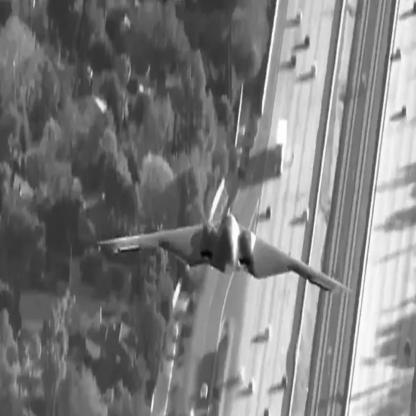B2: (98, 214, 355, 296)
